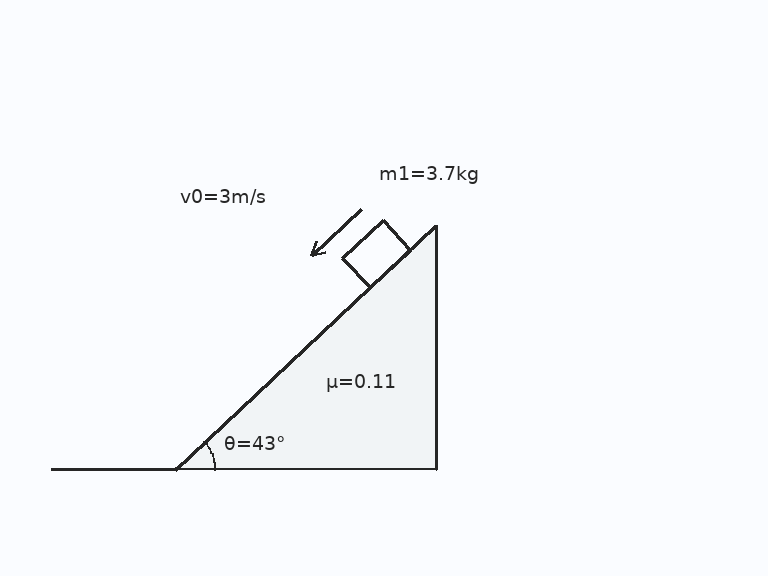block: (340, 218, 412, 289)
ramp: (173, 224, 438, 471)
